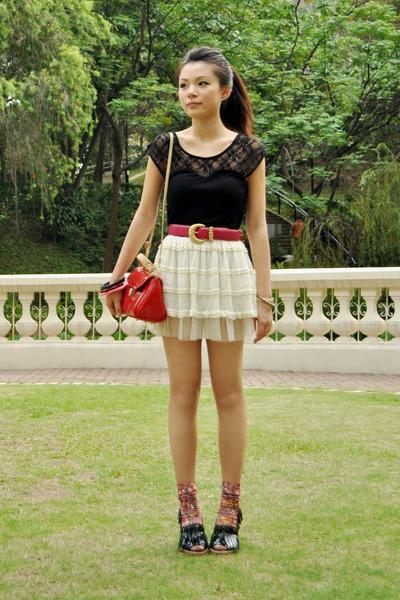bag: (108, 264, 166, 322)
shirt: (132, 135, 262, 227)
shoe: (178, 484, 242, 555)
skirt: (137, 235, 262, 347)
